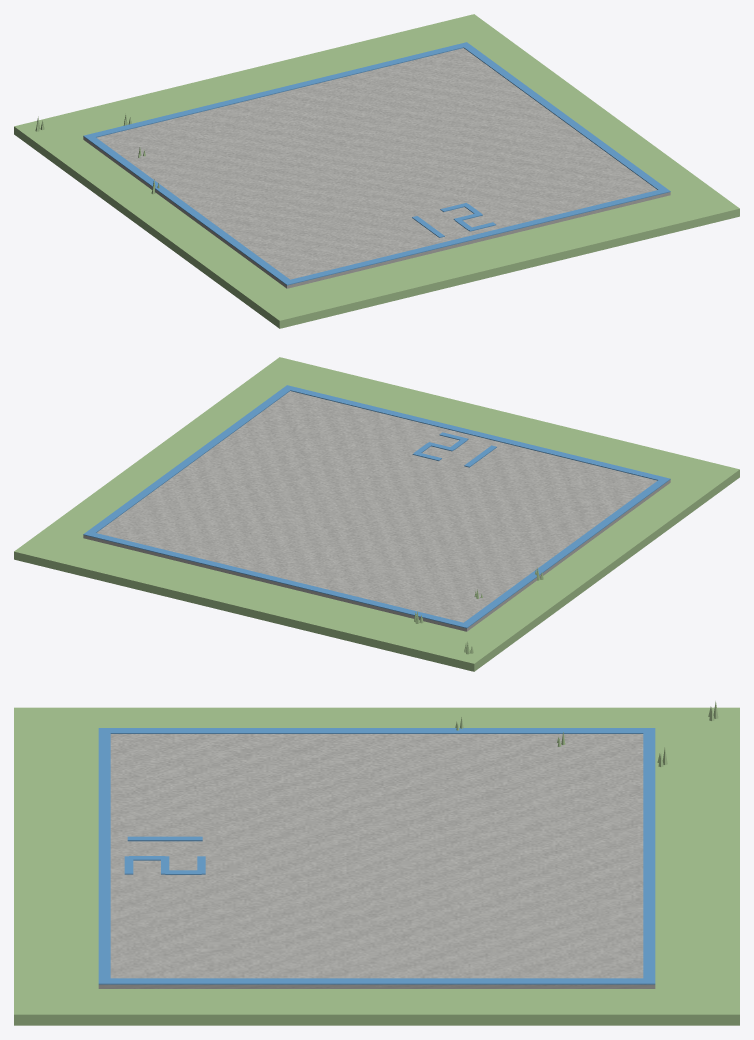
The model's file is caravan-park-and-campsite-hardstanding-pitch-tile-4d76993d__35355.glb.
3 renders of one model, top to bottom at view 1: azimuth 30°, elevation 25°; view 2: azimuth 150°, elevation 25°; view 3: azimuth 270°, elevation 25°, orthographic. The views are drawn at different scales.
Visible parts, largest first — view 1: hardstanding-pitch-tile-hard, hardstanding-pitch-tile-grass, hardstanding-pitch-tile-azure; view 2: hardstanding-pitch-tile-hard, hardstanding-pitch-tile-grass, hardstanding-pitch-tile-azure; view 3: hardstanding-pitch-tile-hard, hardstanding-pitch-tile-grass, hardstanding-pitch-tile-azure.
Boxes of the visible parts, <box> form: hardstanding-pitch-tile-hard: <box>83,48,670,288</box>; hardstanding-pitch-tile-grass: <box>14,14,739,328</box>; hardstanding-pitch-tile-azure: <box>83,42,670,285</box>; hardstanding-pitch-tile-hard: <box>83,391,670,631</box>; hardstanding-pitch-tile-grass: <box>14,357,739,671</box>; hardstanding-pitch-tile-azure: <box>83,385,670,628</box>; hardstanding-pitch-tile-hard: <box>98,734,655,988</box>; hardstanding-pitch-tile-grass: <box>14,701,739,1025</box>; hardstanding-pitch-tile-azure: <box>98,728,655,984</box>.
Bounding box in the file's own units: 6 × 0.26 × 6.
3 materials, 1 textured.
